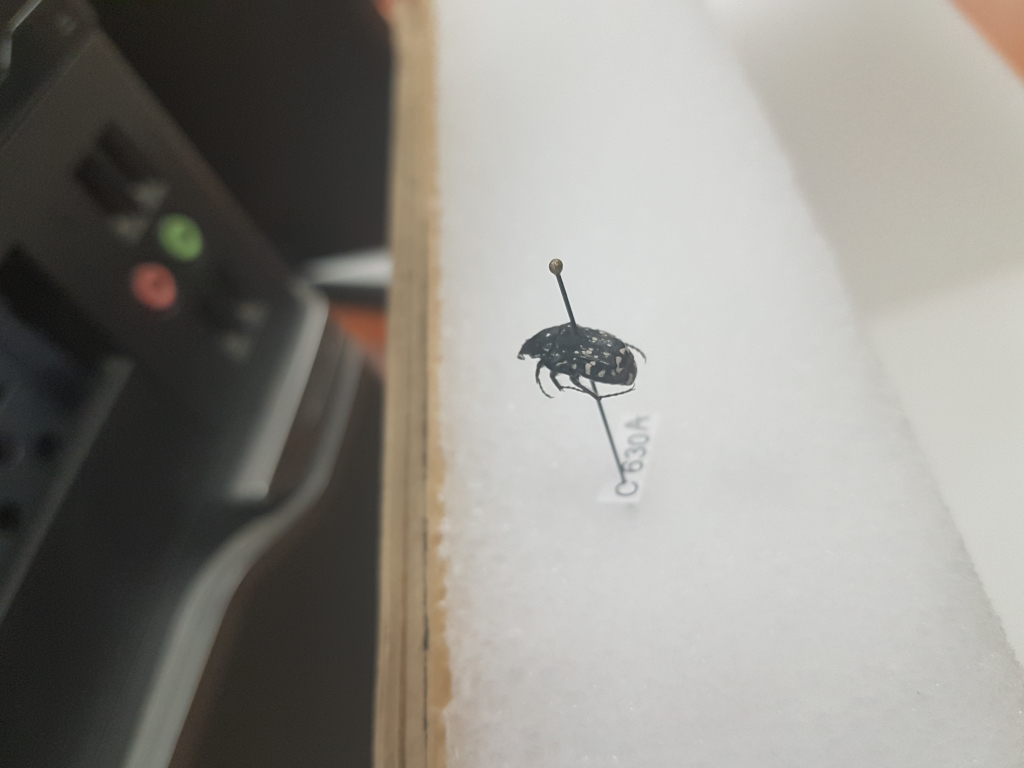Oxythyrea_albopicta: (519, 312, 649, 404)
